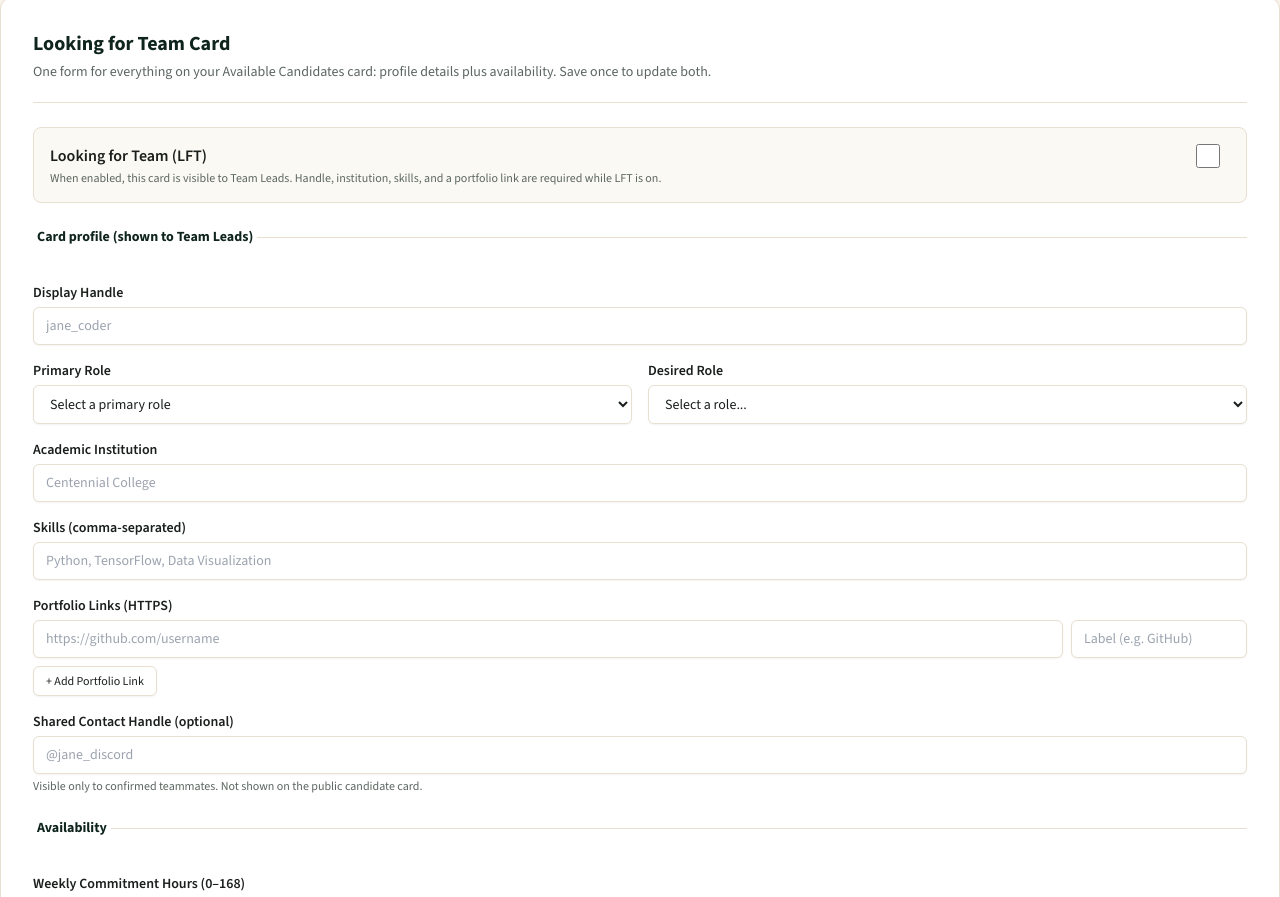
AvailabilityPreferencesForm (combined Looking for Team card) › requires card profile fields when enabling Looking for Team
Click the switch labelled "Looking for Team (LFT)": [1208, 156] box x1=1186 y1=144 x2=1230 y2=168
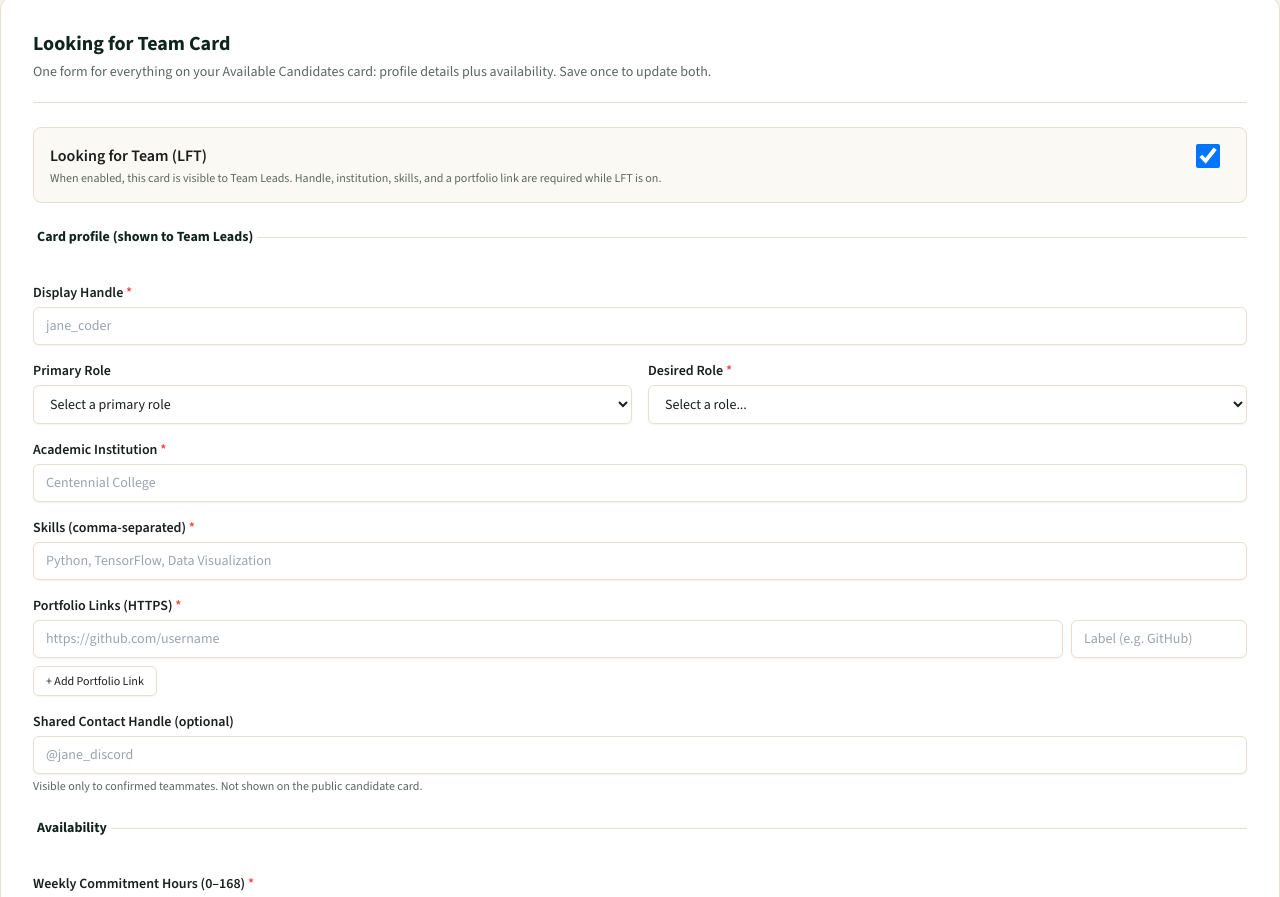
Select "Backend" in the dropdown labelled "Desired Role *": [948, 404] box x1=648 y1=385 x2=1247 y2=424
(page scrolled)
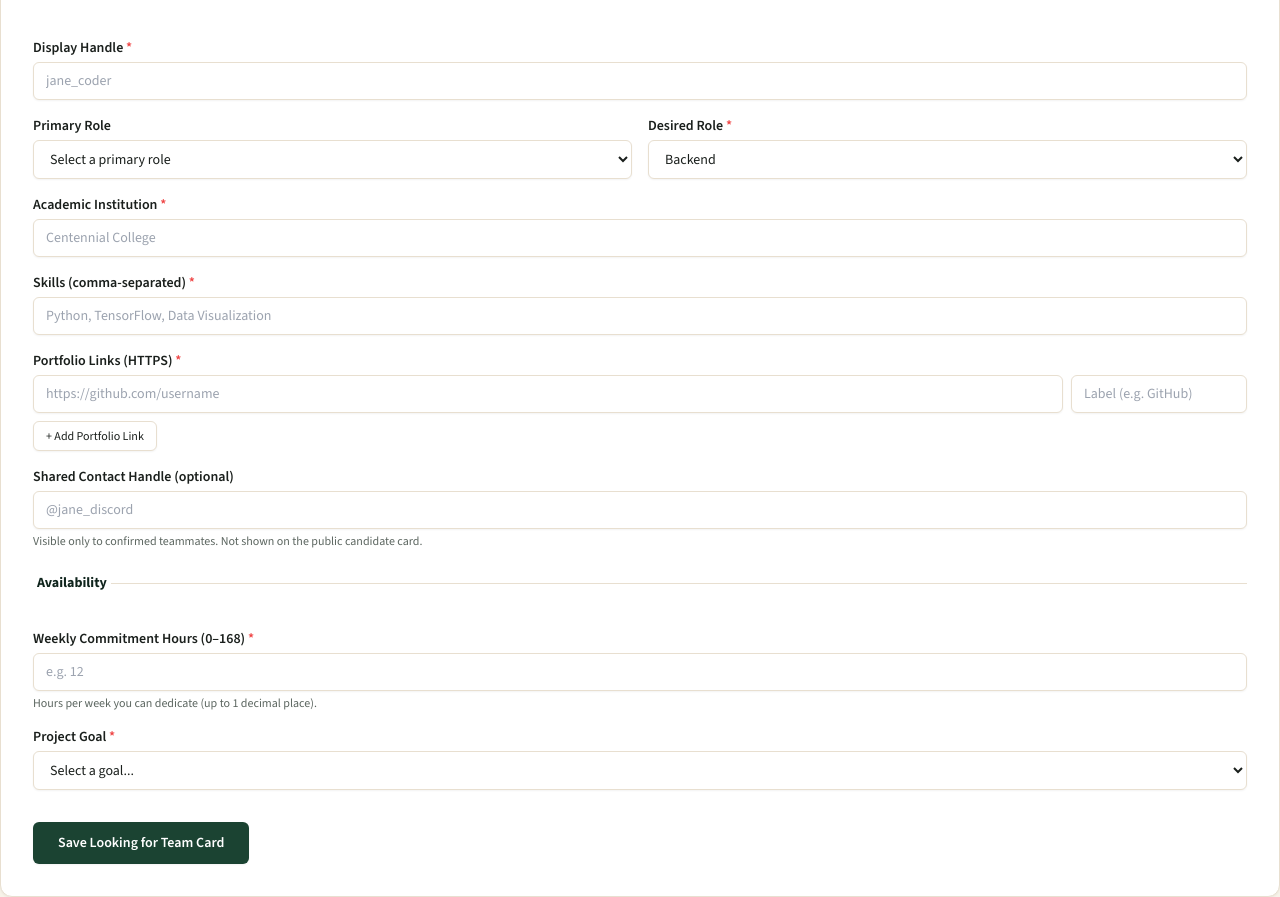
In the number field labelled "Weekly Commitment Hours (0–168) *": [640, 672] box x1=33 y1=653 x2=1247 y2=691, type "13"
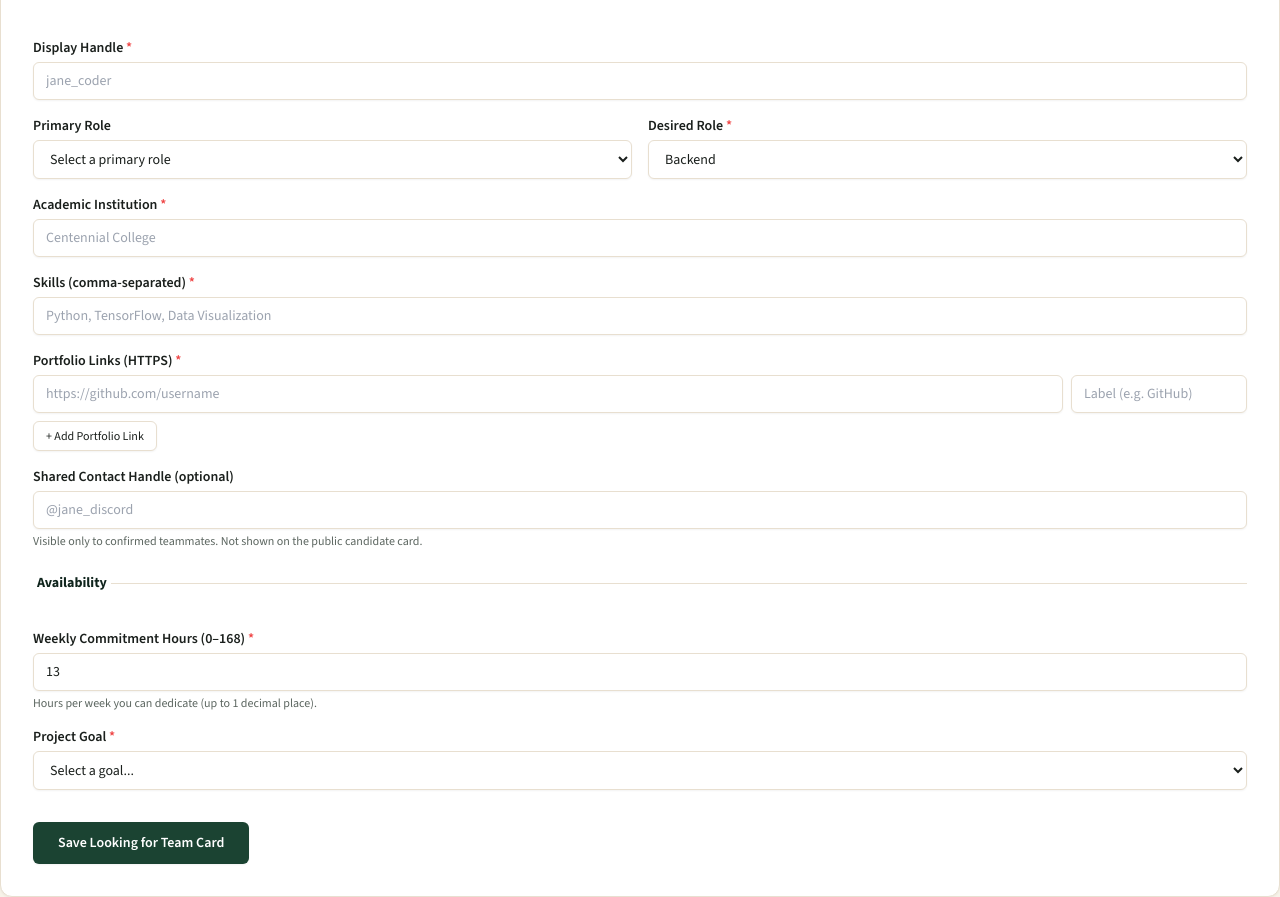
Select "Project Completion" in the dropdown labelled "Project Goal *": [640, 770] box x1=33 y1=751 x2=1247 y2=790
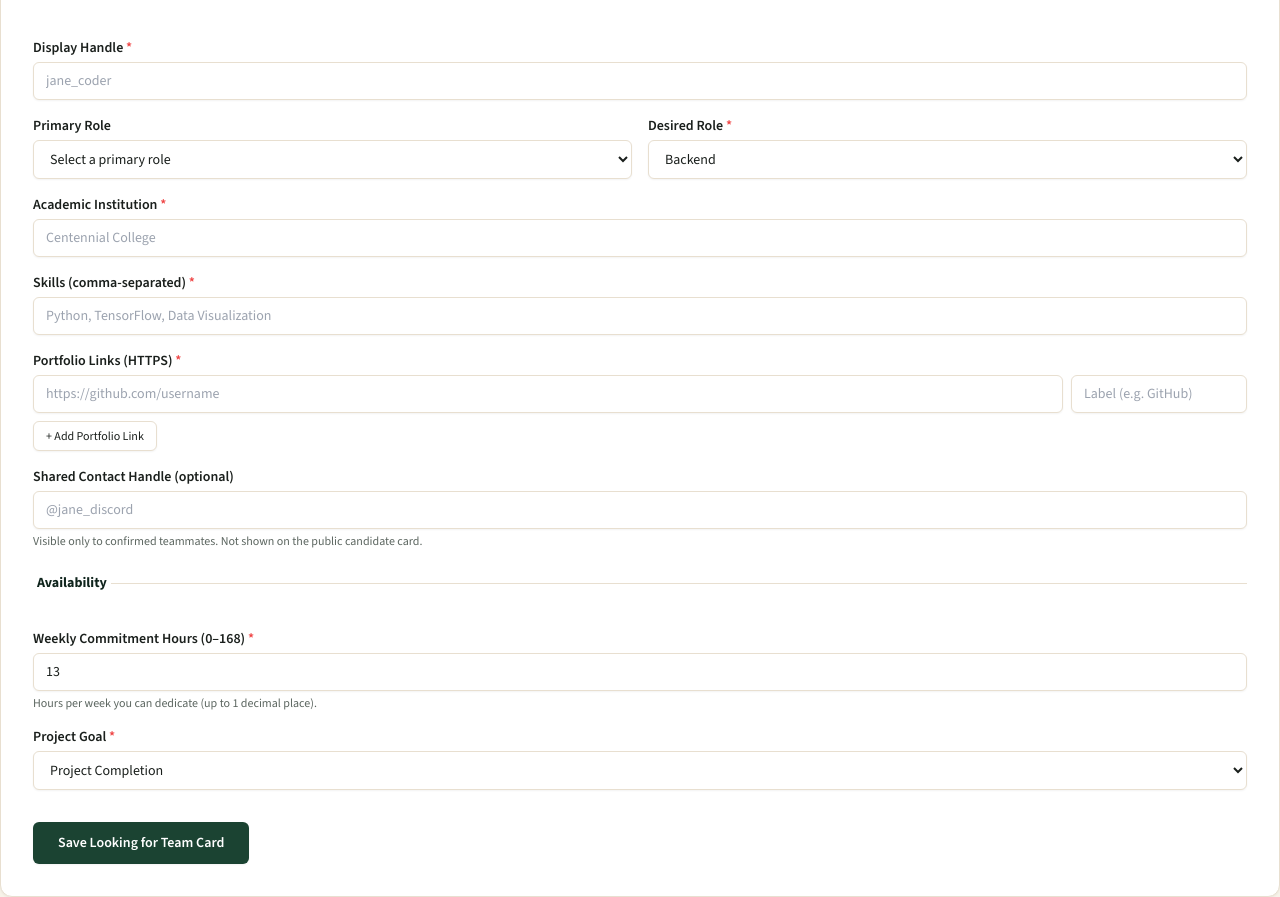
Click the button "Save Looking for Team Card": [141, 843] box x1=33 y1=822 x2=249 y2=864
(page scrolled)
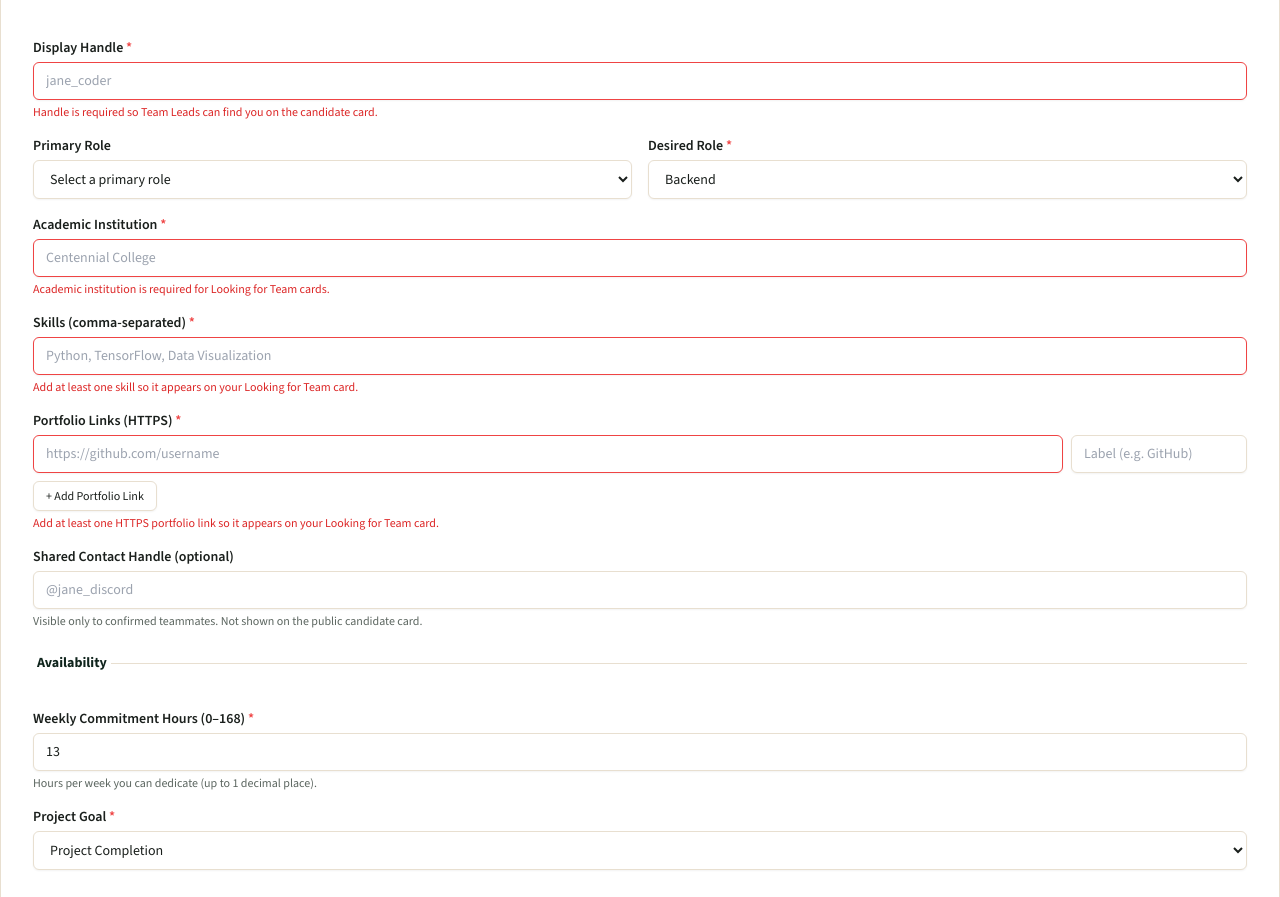
Check: the text "Handle is required so Team Leads can find you on the candidate card." is shown, box x1=33 y1=104 x2=378 y2=120
Check: the text "Academic institution is required for Looking for Team cards." is shown, box x1=33 y1=281 x2=330 y2=297
